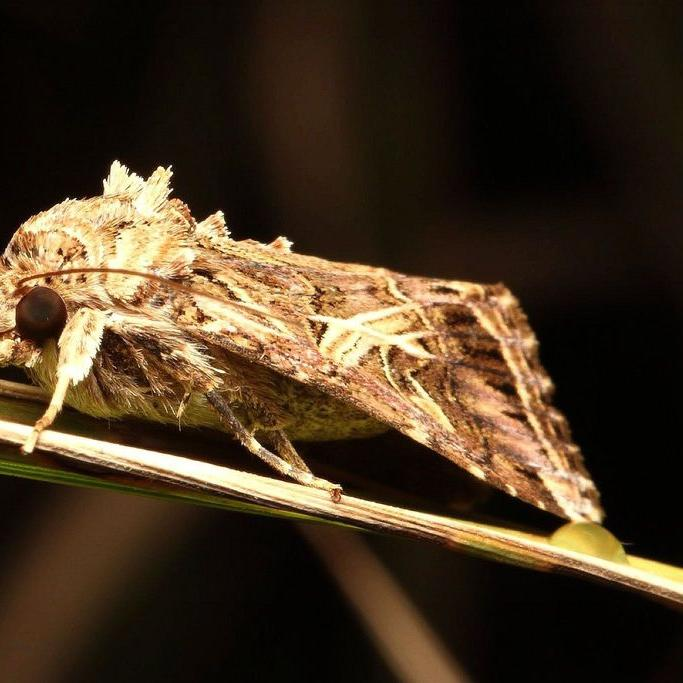Spodoptera litura: (1, 160, 606, 525)
